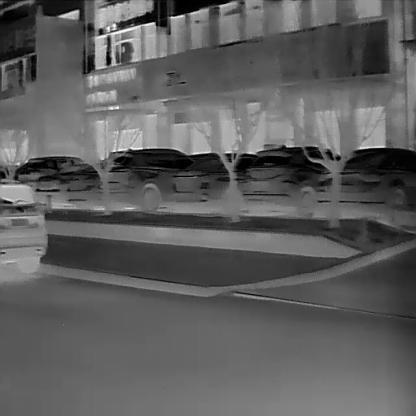car: (243, 146, 340, 219), (100, 146, 194, 213), (337, 147, 411, 228), (173, 151, 257, 212), (0, 178, 46, 274), (14, 155, 85, 198), (33, 172, 93, 206), (68, 165, 118, 205)
